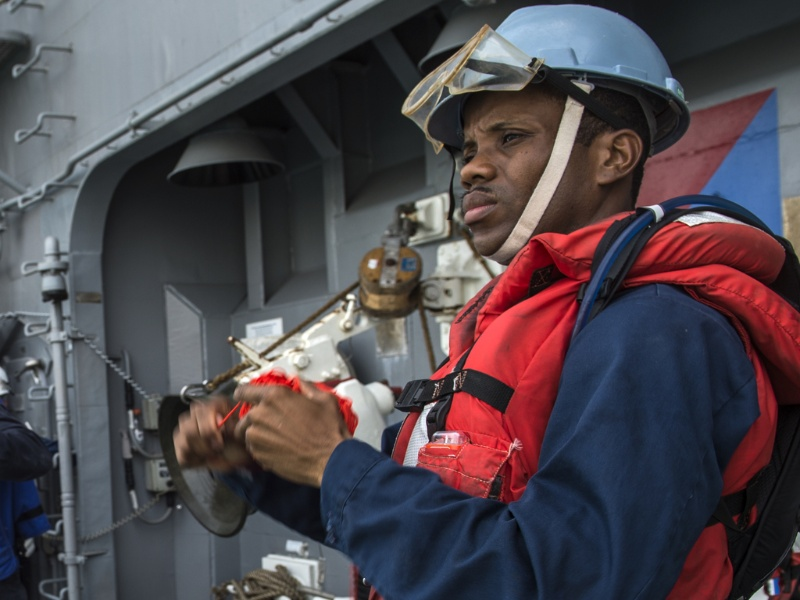Baret: (457, 4, 692, 119)
